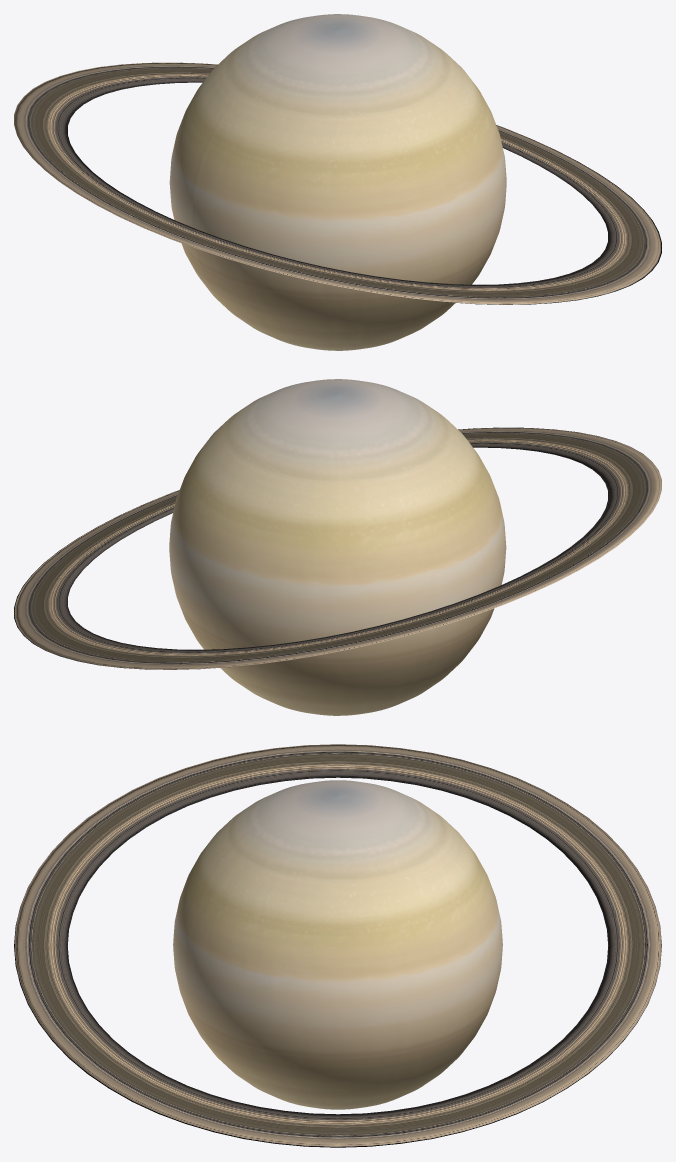
File: saturn.gltf
3 renders of one model, top to bottom at view 1: azimuth 30°, elevation 25°; view 2: azimuth 150°, elevation 25°; view 3: azimuth 270°, elevation 25°, orthographic. The views are drawn at different scales.
Visible parts, largest first — view 1: Sphere_Material.002_0_4, Circle_ring_0_2; view 2: Sphere_Material.002_0_4, Circle_ring_0_2; view 3: Sphere_Material.002_0_4, Circle_ring_0_2.
Part boxes in pixels (x1,y1,x2,y2): Sphere_Material.002_0_4: (169, 14, 506, 350); Circle_ring_0_2: (14, 62, 661, 304); Sphere_Material.002_0_4: (169, 379, 506, 715); Circle_ring_0_2: (14, 427, 661, 669); Sphere_Material.002_0_4: (173, 780, 502, 1109); Circle_ring_0_2: (14, 744, 661, 1147).
Bounding box in the file's own units: 382 × 200 × 393.
2 materials, 2 textured.
